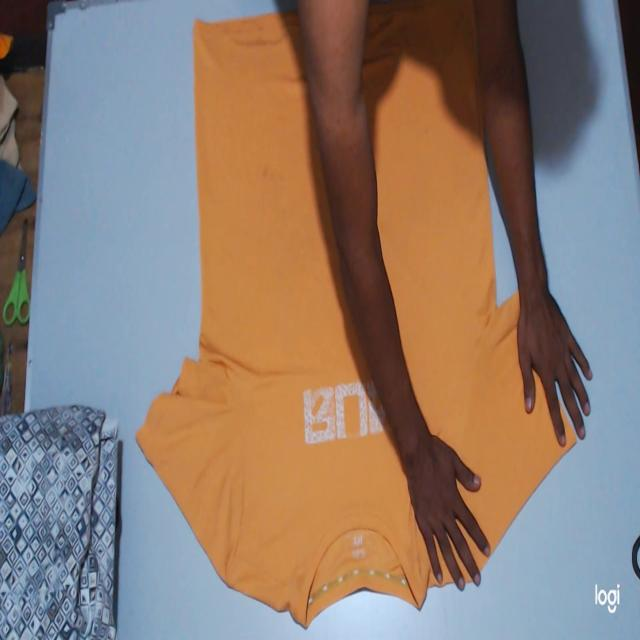new-garment: (138, 14, 437, 625), (363, 0, 574, 548)
